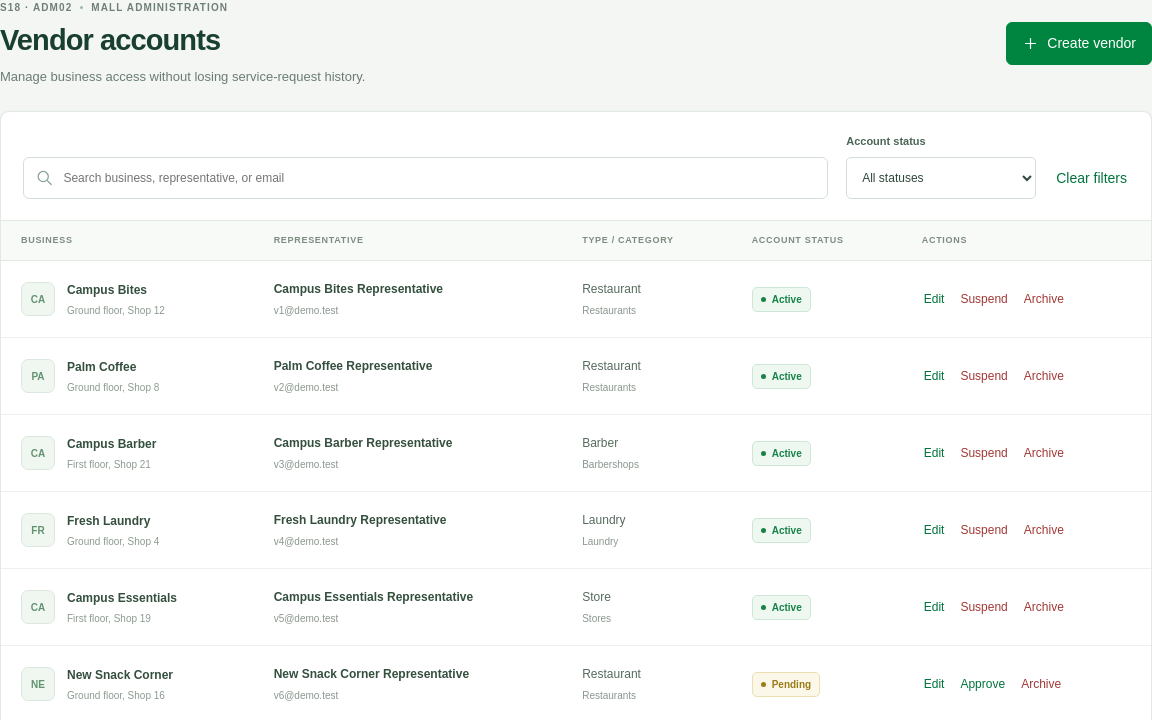
Test: Owned admin screens › combines vendor search and account state
The width and height of the screenshot is (1152, 720).
Step 1. Type "Campus" into the field labelled "Search" → coordinates (439, 178), box [63,161,815,195]
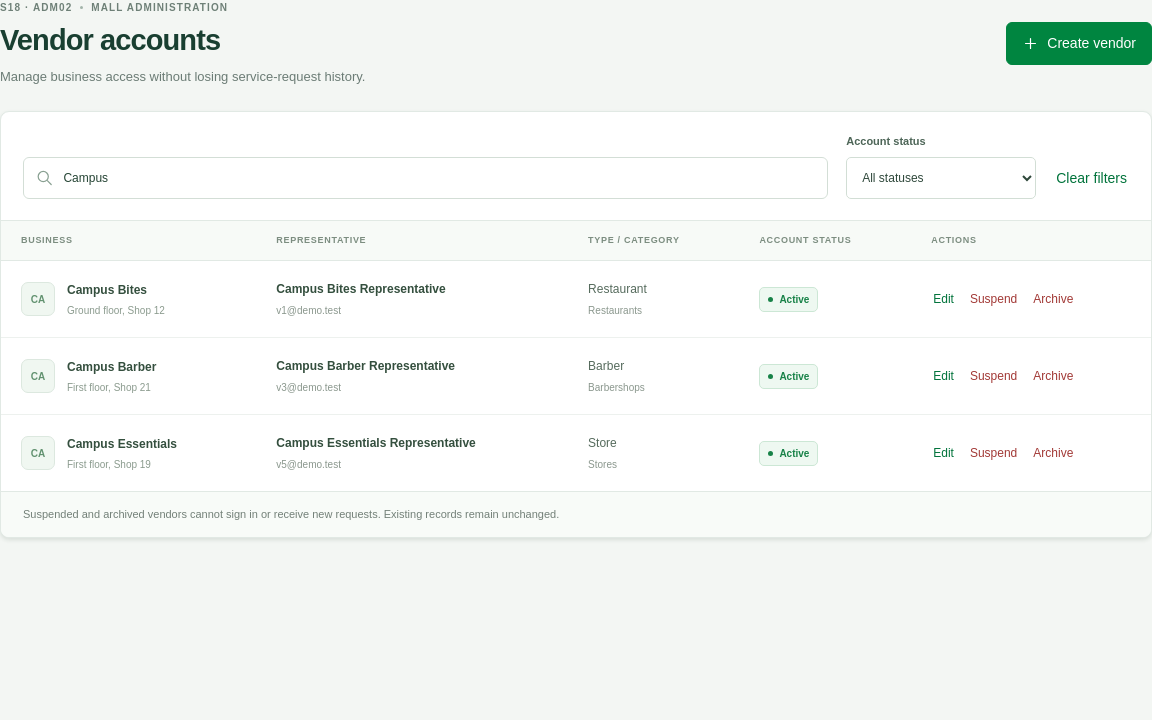
Step 2. Select "Pending" in the dropdown labelled "Account status" → coordinates (941, 178), box [846,157,1036,199]
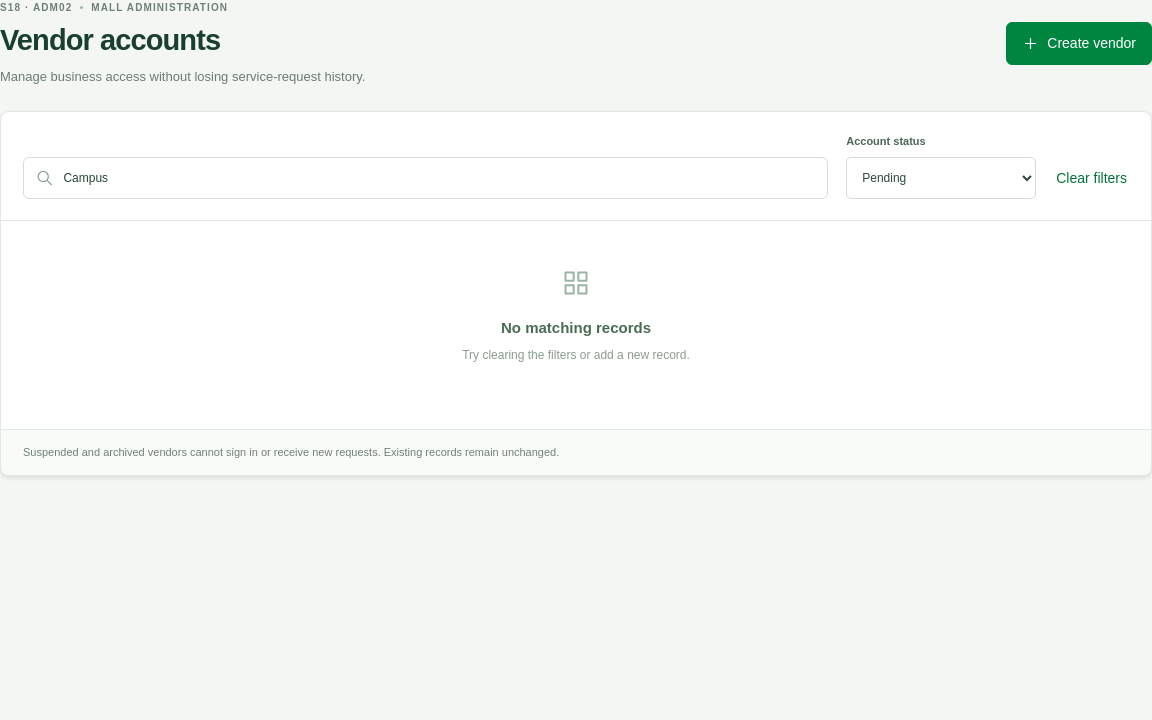
Now the heading "No matching records" is shown, box [501,319,651,336]
Step 3. Click the button "Clear filters" → coordinates (1092, 178), box [1054,162,1129,195]
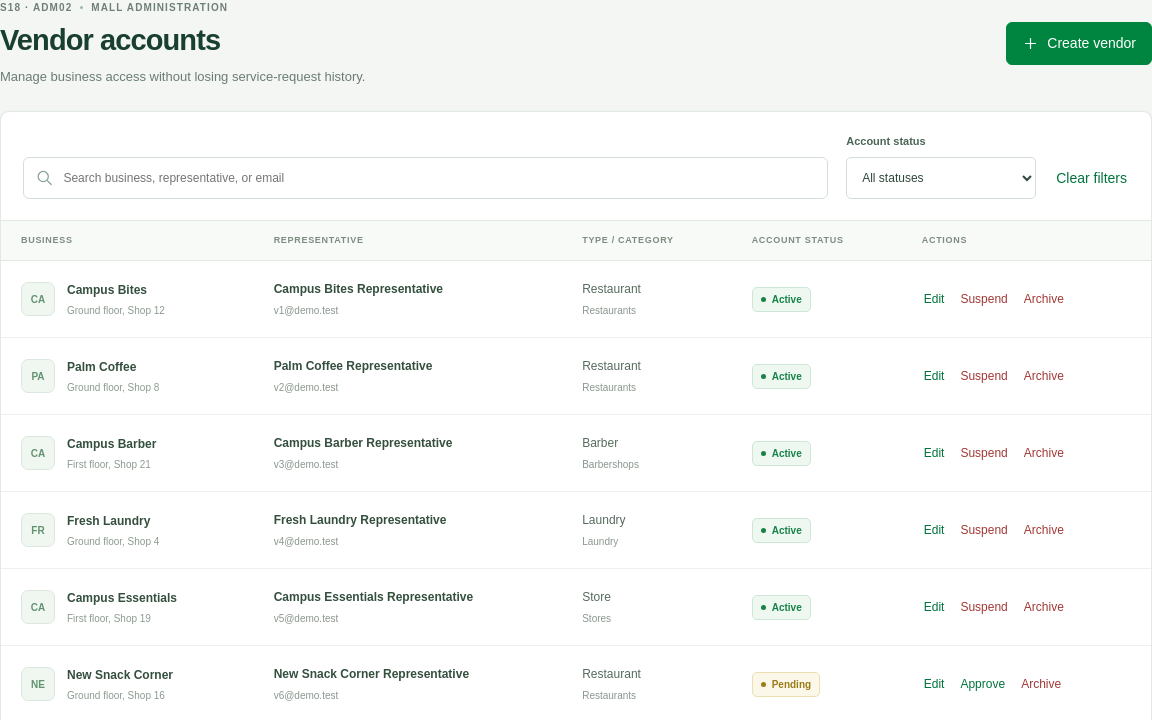
Now the text "New Snack Corner" is shown, box [67,668,173,682]
